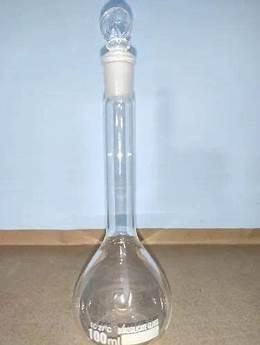Volumetric flask: (67, 23, 183, 338)
